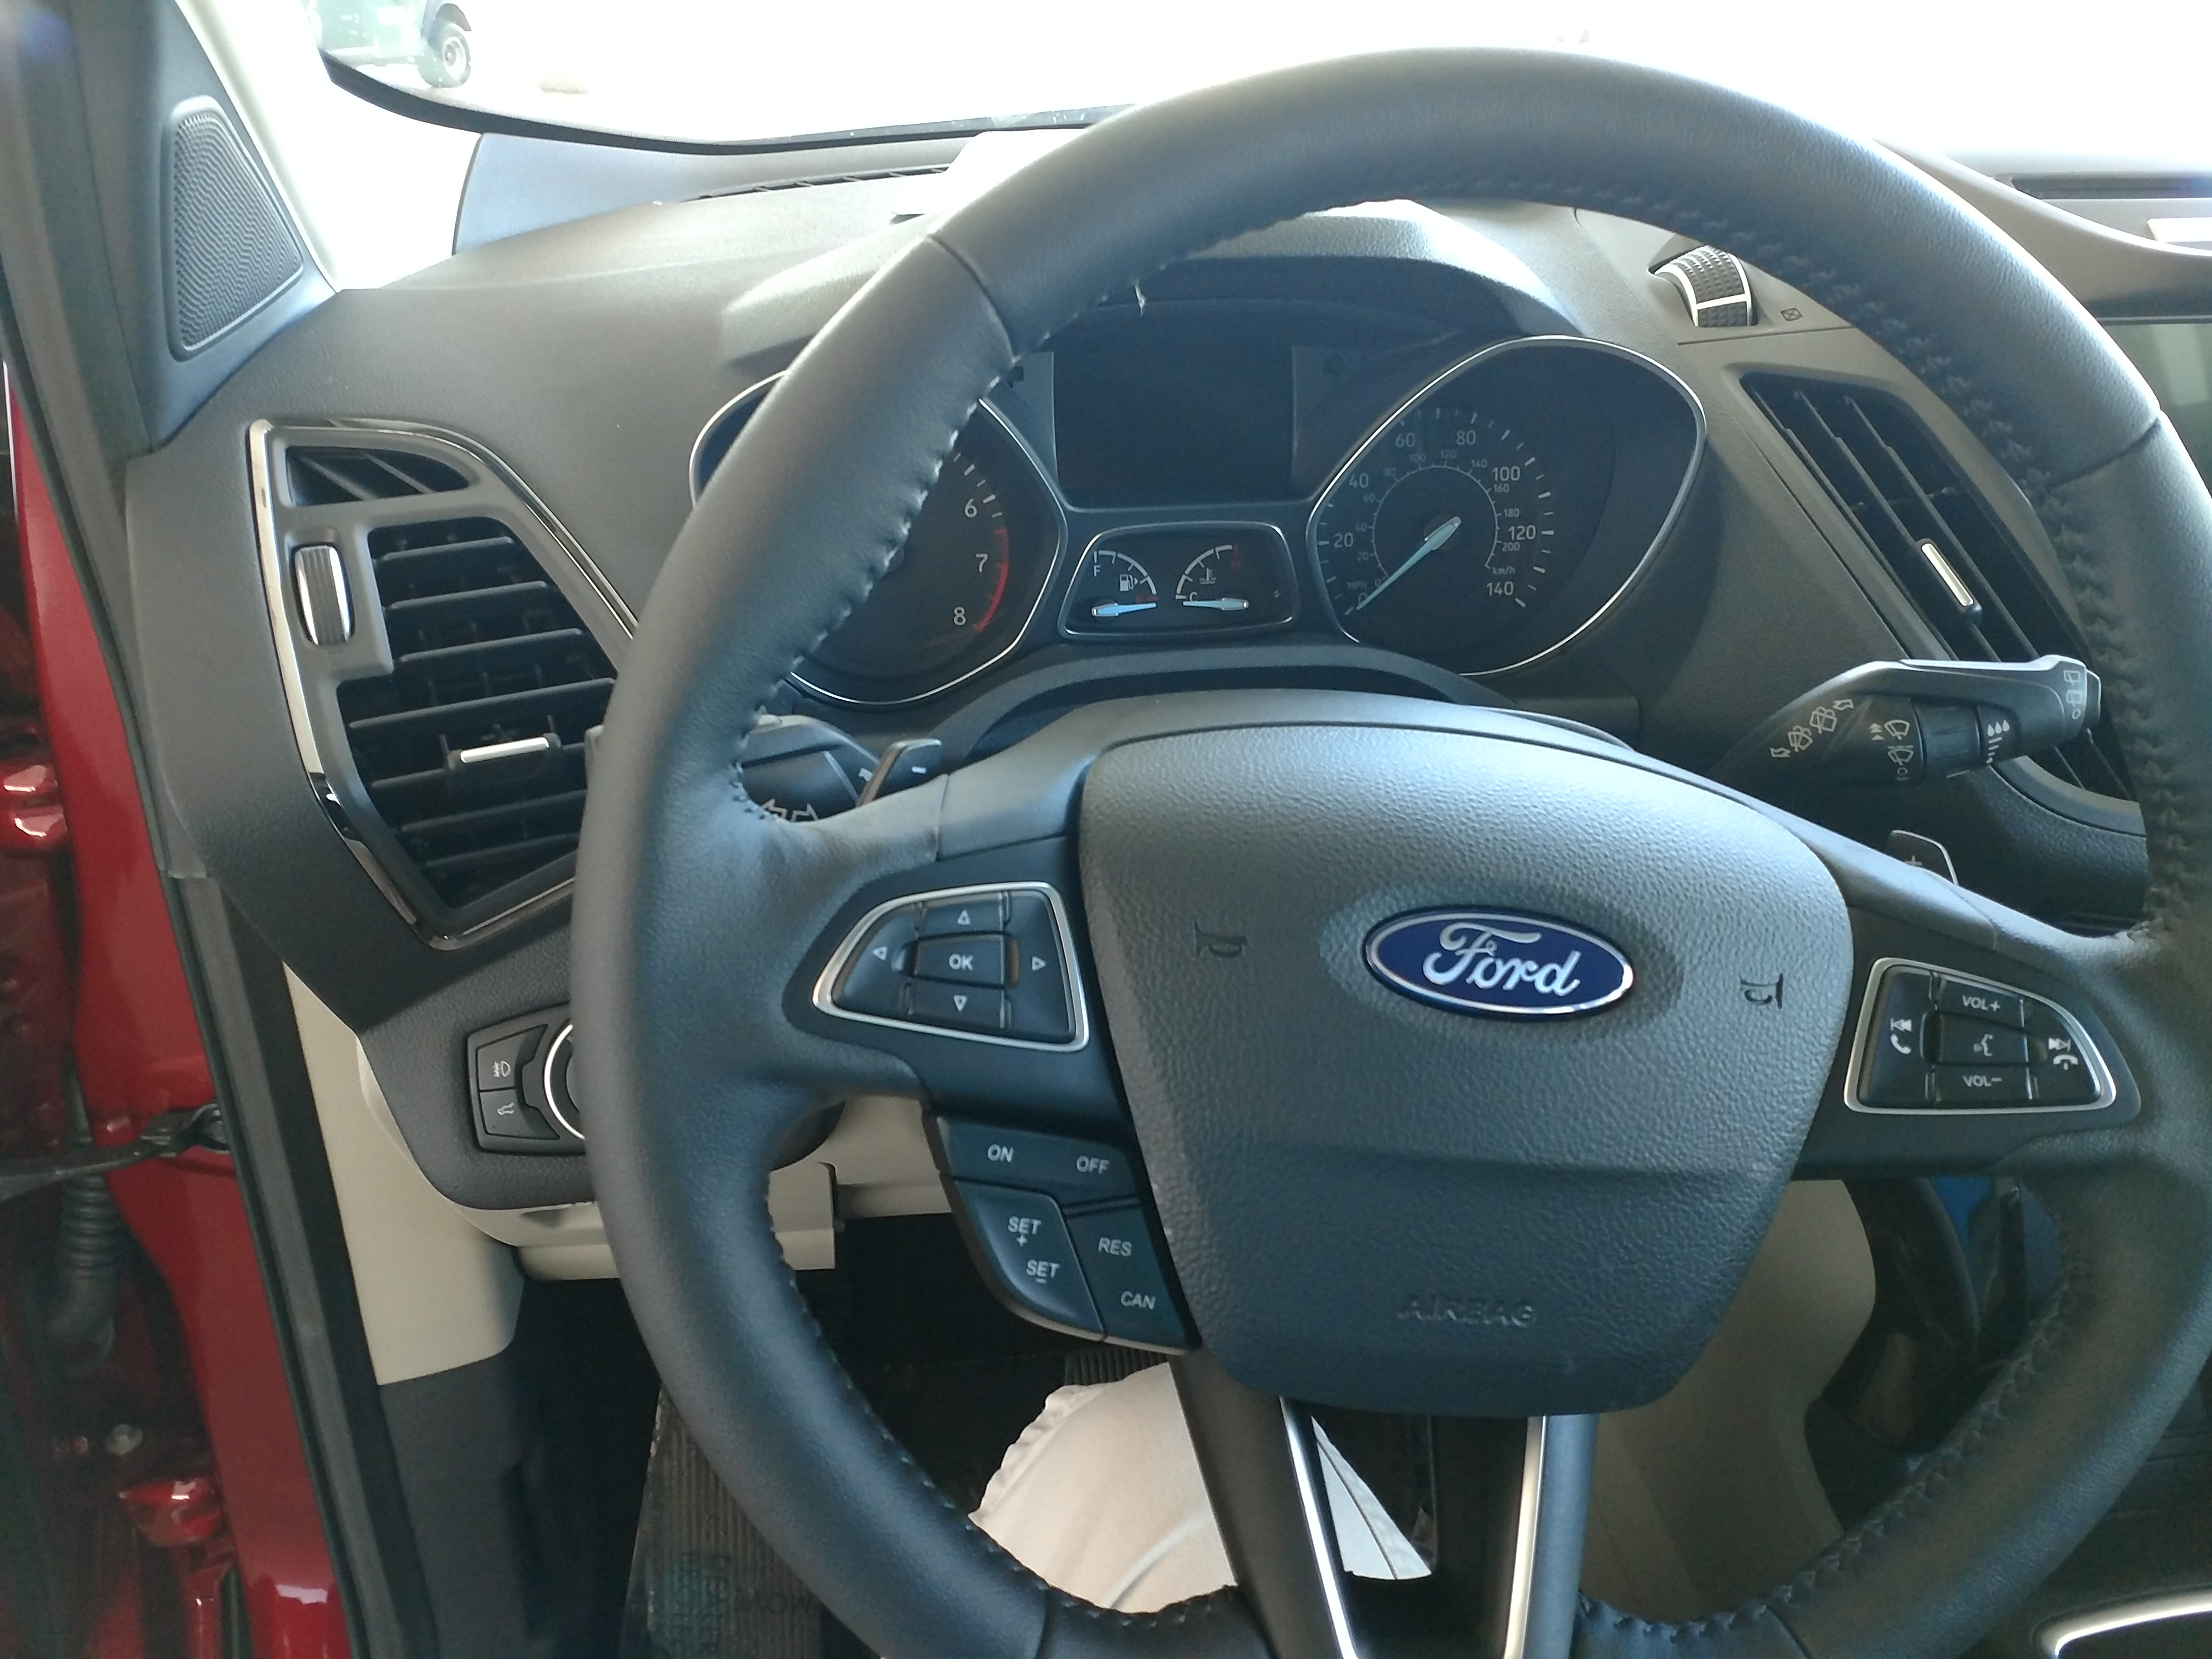Ford: (1348, 873, 1653, 1033)
